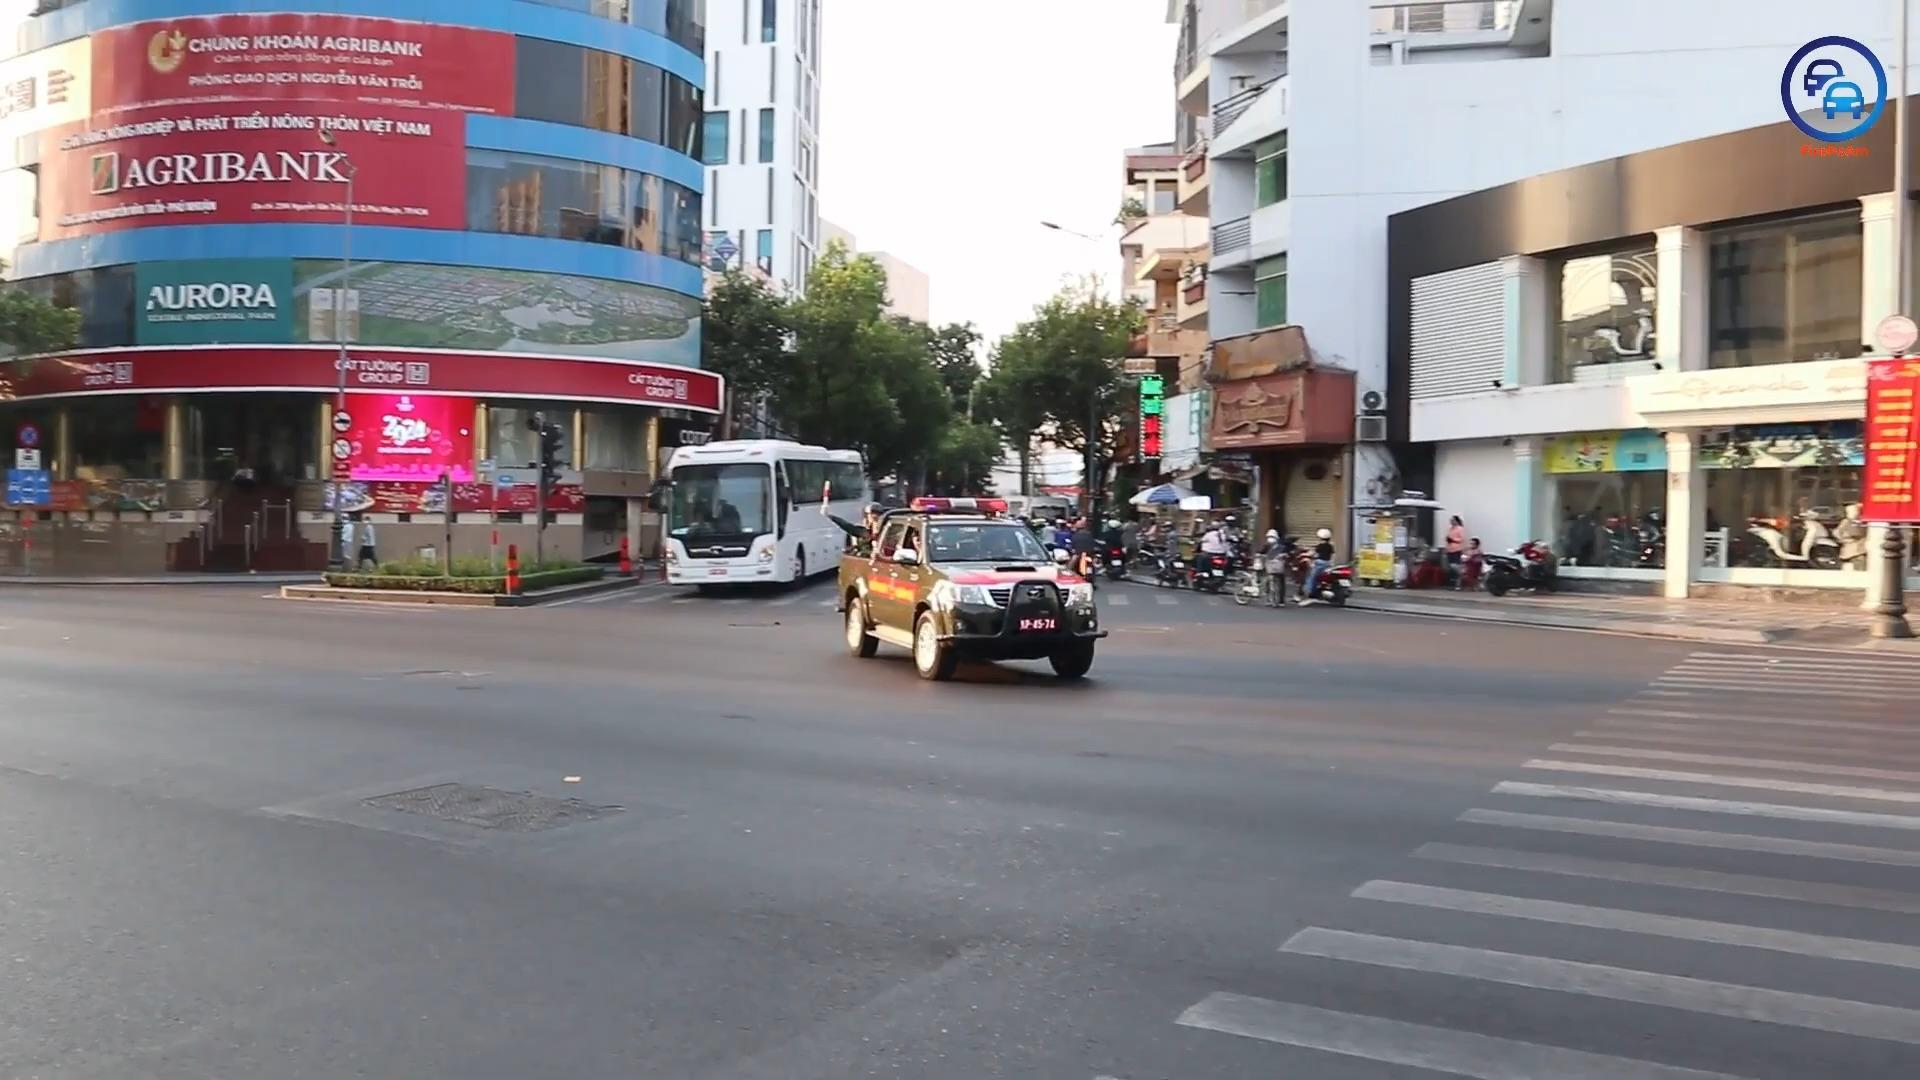bien_so: (1017, 616, 1055, 634)
